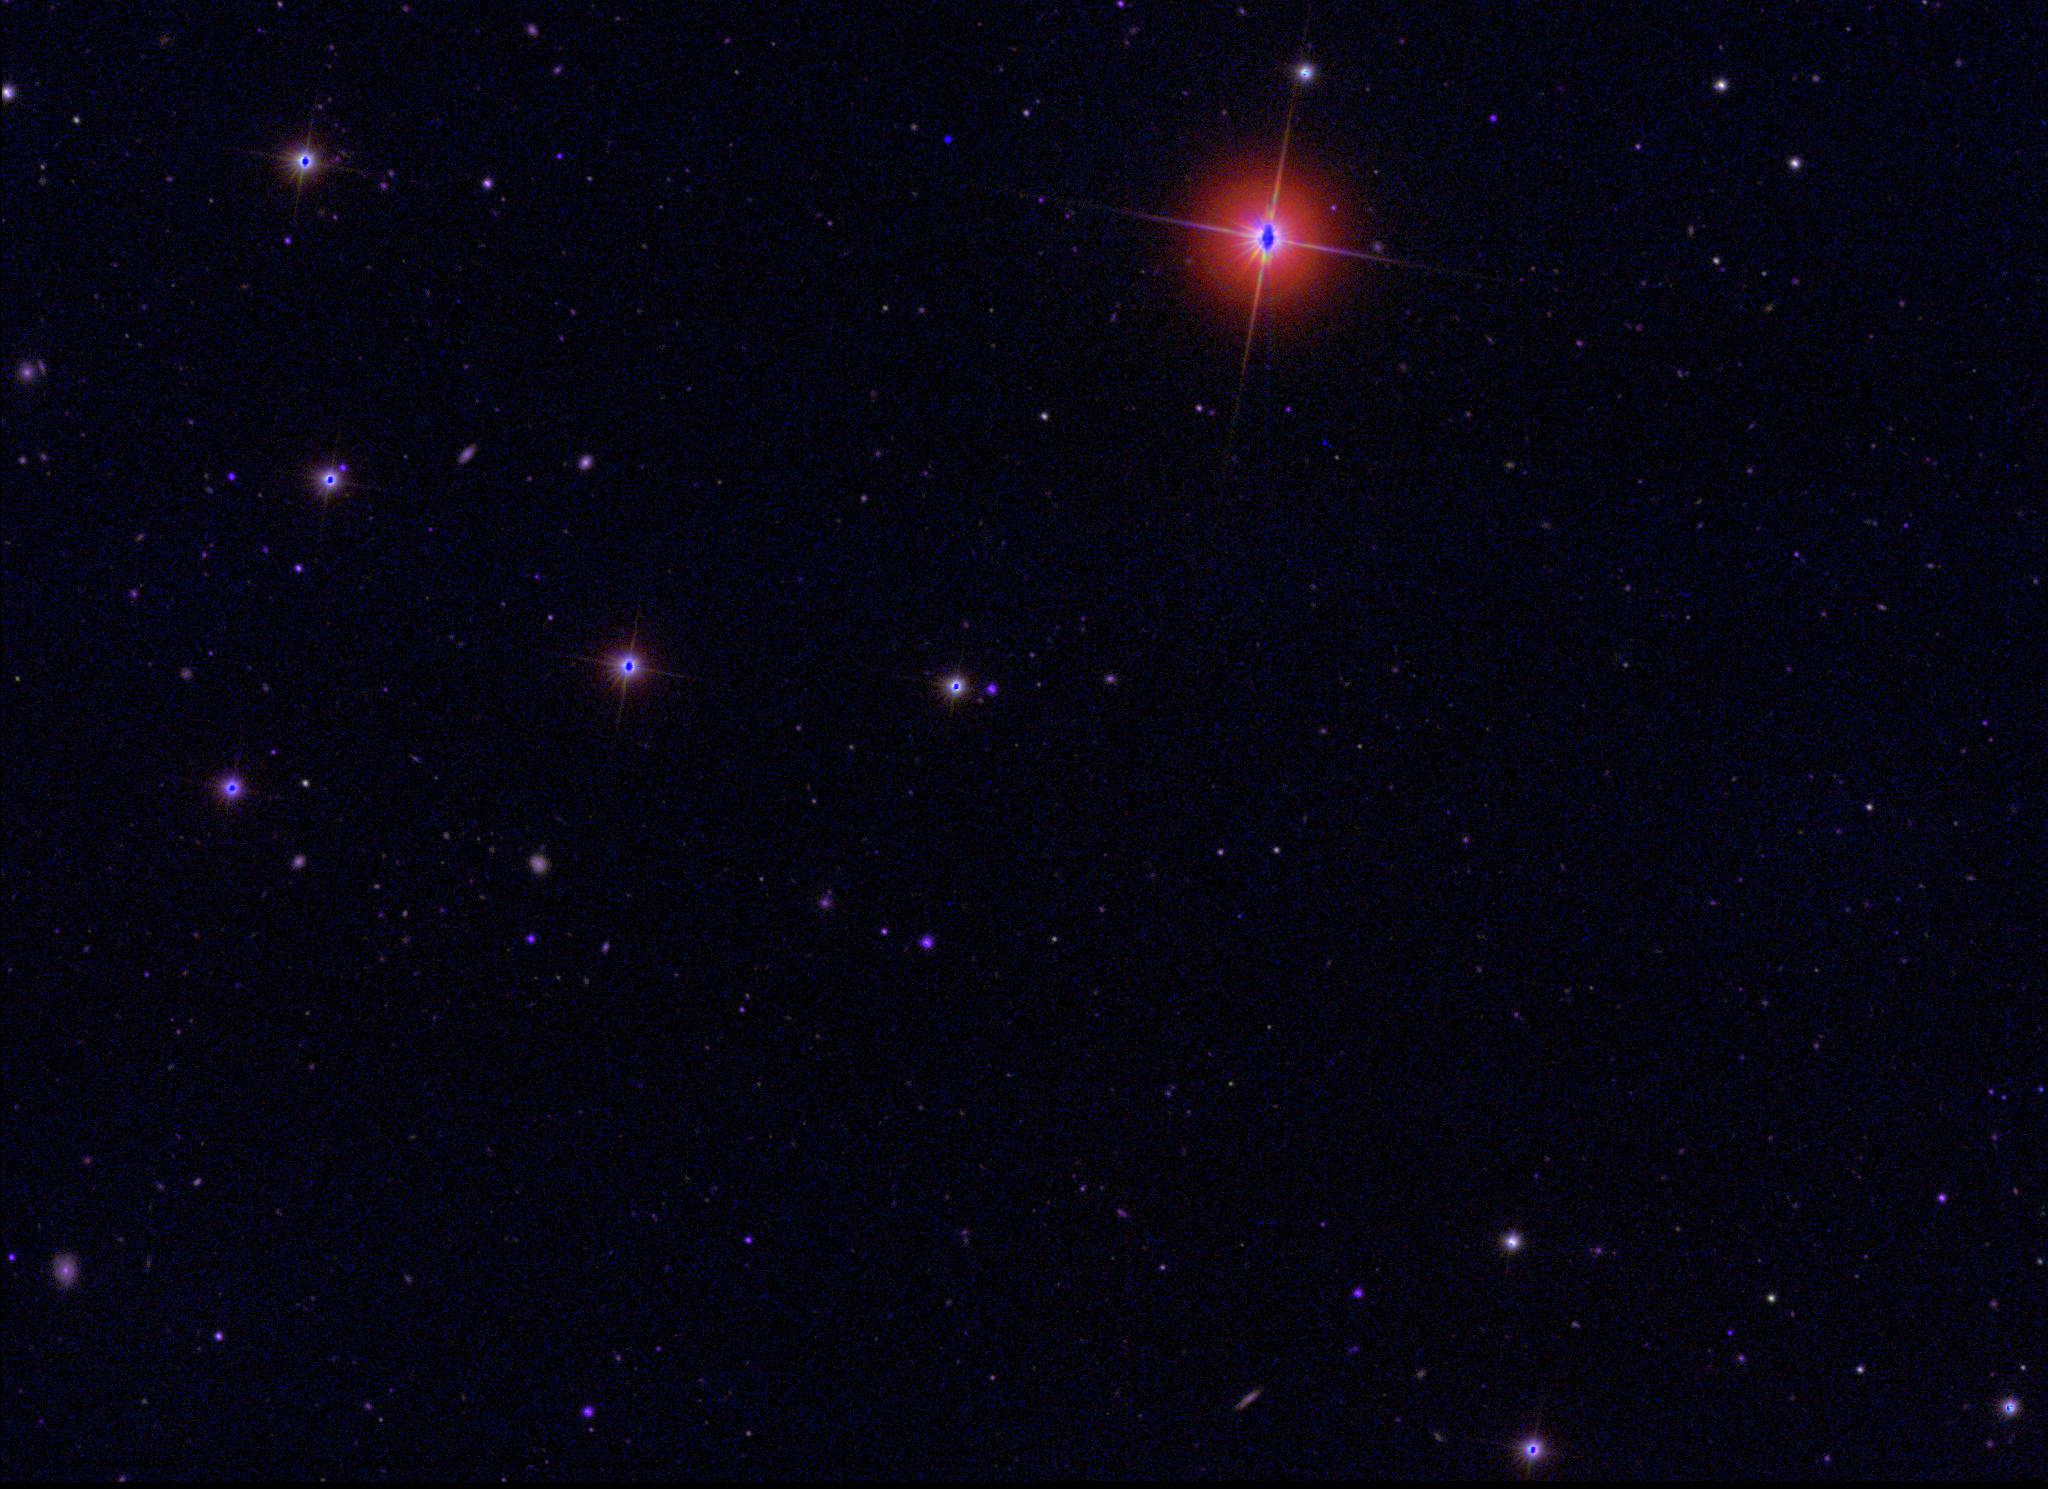L: (943, 130, 957, 145)
